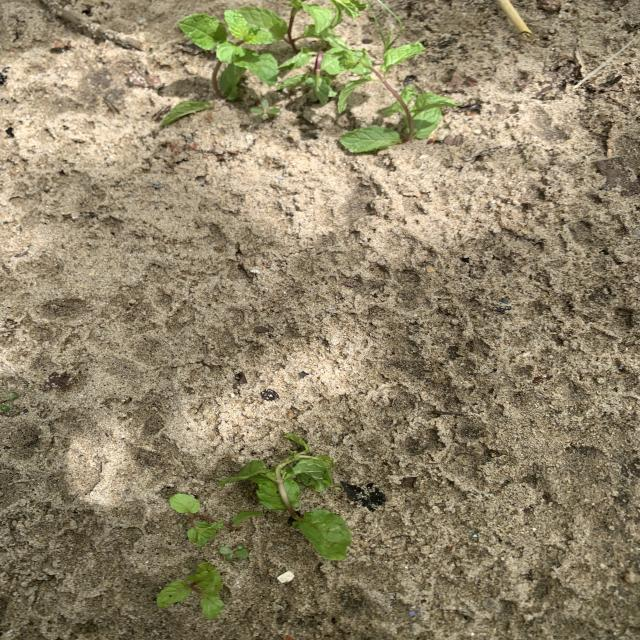crop: (218, 435, 350, 559), (338, 44, 456, 151), (179, 10, 279, 100), (239, 0, 366, 51), (171, 494, 262, 545), (158, 562, 223, 617), (282, 44, 343, 102)
weed: (369, 0, 403, 53), (251, 100, 279, 119), (219, 545, 248, 560)
